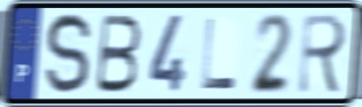2: (251, 11, 296, 97)
4: (147, 12, 191, 96)
B: (92, 12, 144, 95)
L: (200, 15, 239, 92)
R: (295, 12, 350, 96)
S: (43, 10, 94, 98)
